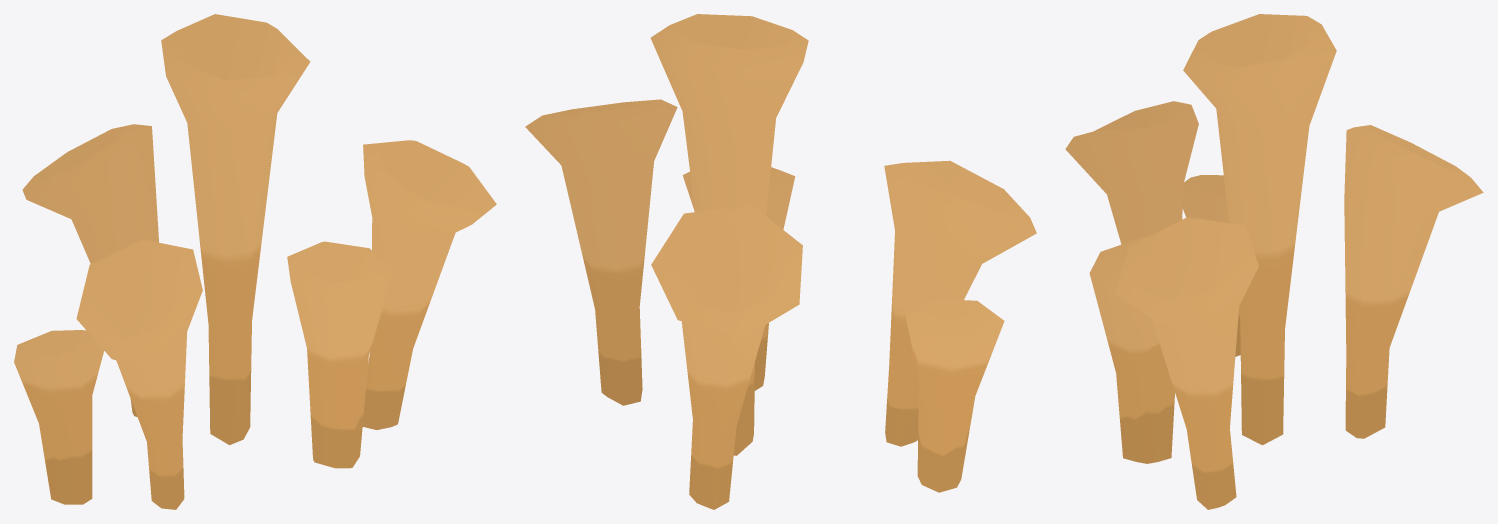
The model's file is SM_Env_Tubes_01.glb.
3 views of the same model, side by side, from view 1: azimuth 30°, elevation 25°; view 2: azimuth 150°, elevation 25°; view 3: azimuth 270°, elevation 25° (orthographic). The views are drawn at different scales.
Visible parts, largest first — view 1: SM_Env_Tubes_01_LOD0; view 2: SM_Env_Tubes_01_LOD0; view 3: SM_Env_Tubes_01_LOD0.
Part boxes in pixels (x1=…): SM_Env_Tubes_01_LOD0: x1=14, y1=14, x2=496, y2=509; SM_Env_Tubes_01_LOD0: x1=525, y1=14, x2=1036, y2=509; SM_Env_Tubes_01_LOD0: x1=1065, y1=14, x2=1483, y2=509.
Size of what is drawn, in the model's own units: 1.51 by 1.34 by 1.2.
1 material, 1 textured.
